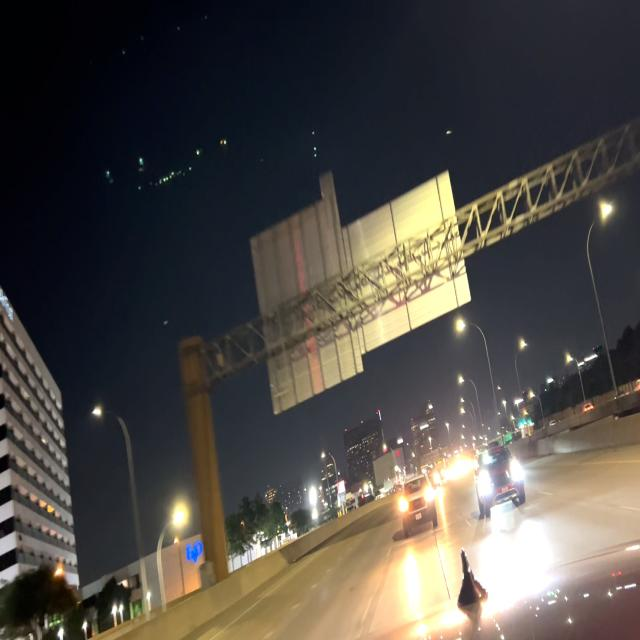back-of-sign: (249, 170, 471, 414)
